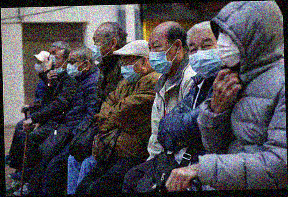mask_weared_incorrect: (53, 54, 65, 76)
with_mask: (188, 36, 221, 80), (216, 29, 242, 69), (148, 38, 174, 77), (120, 55, 141, 84), (90, 34, 108, 63), (65, 55, 84, 80), (48, 49, 58, 68), (32, 59, 44, 74)
